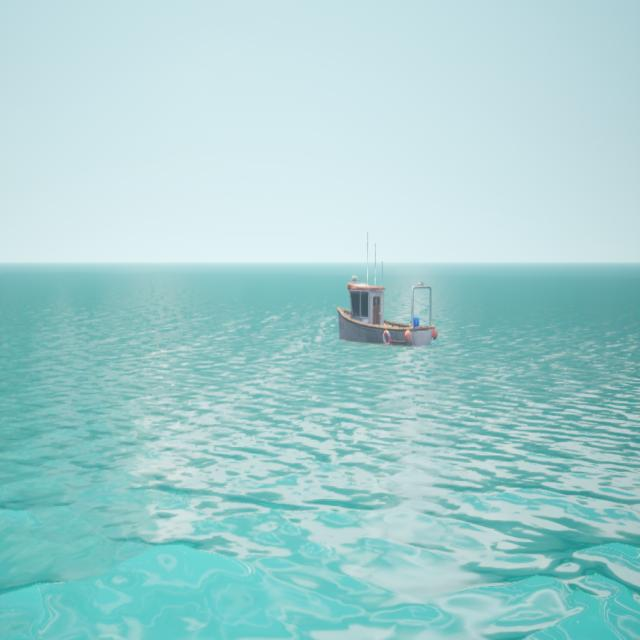ship: (338, 236, 438, 354)
